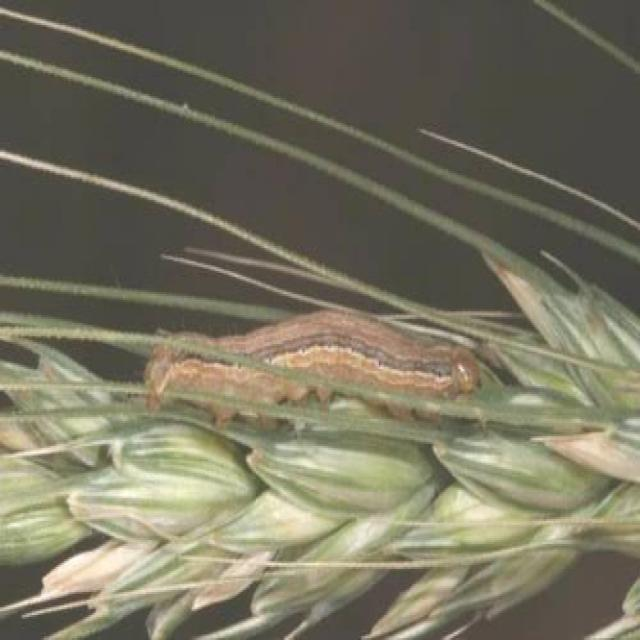armyworm: (141, 291, 489, 431)
